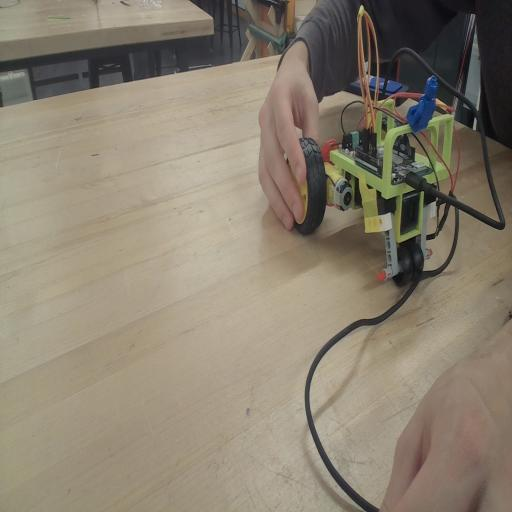blue LEGO minifig: (405, 72, 438, 132)
